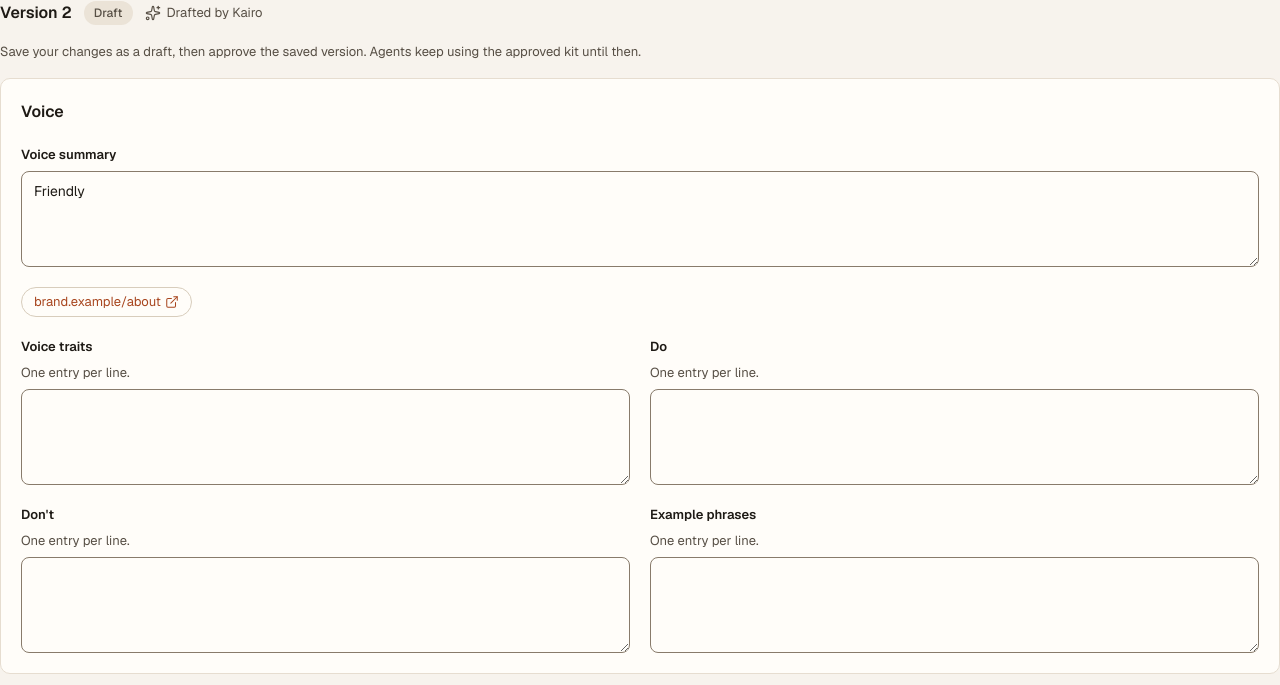
Test: saves edits without losing source evidence, file references or colours
The image size is (1280, 685).
Replace the text in the text box labelled "Voice summary" with "Practical and friendly": x=640, y=219 [21,171,1259,267]
(page scrolled)
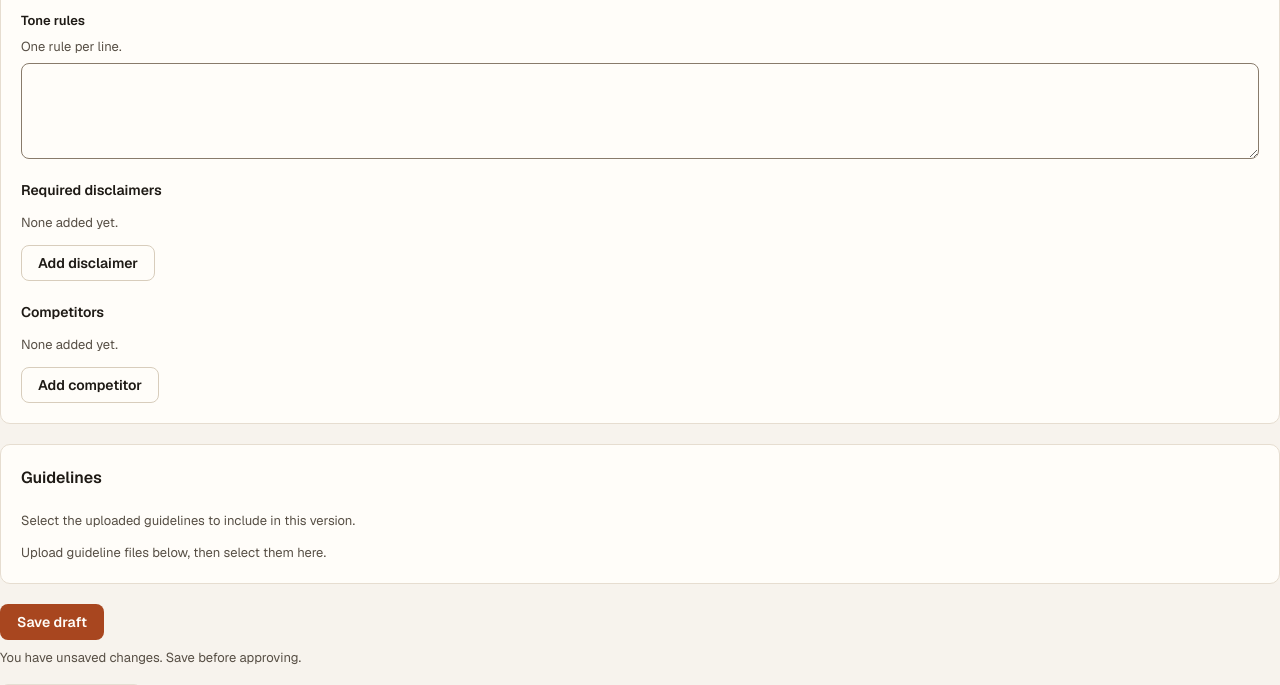
Click the button "Save draft": x=52, y=622 [0,604,104,640]
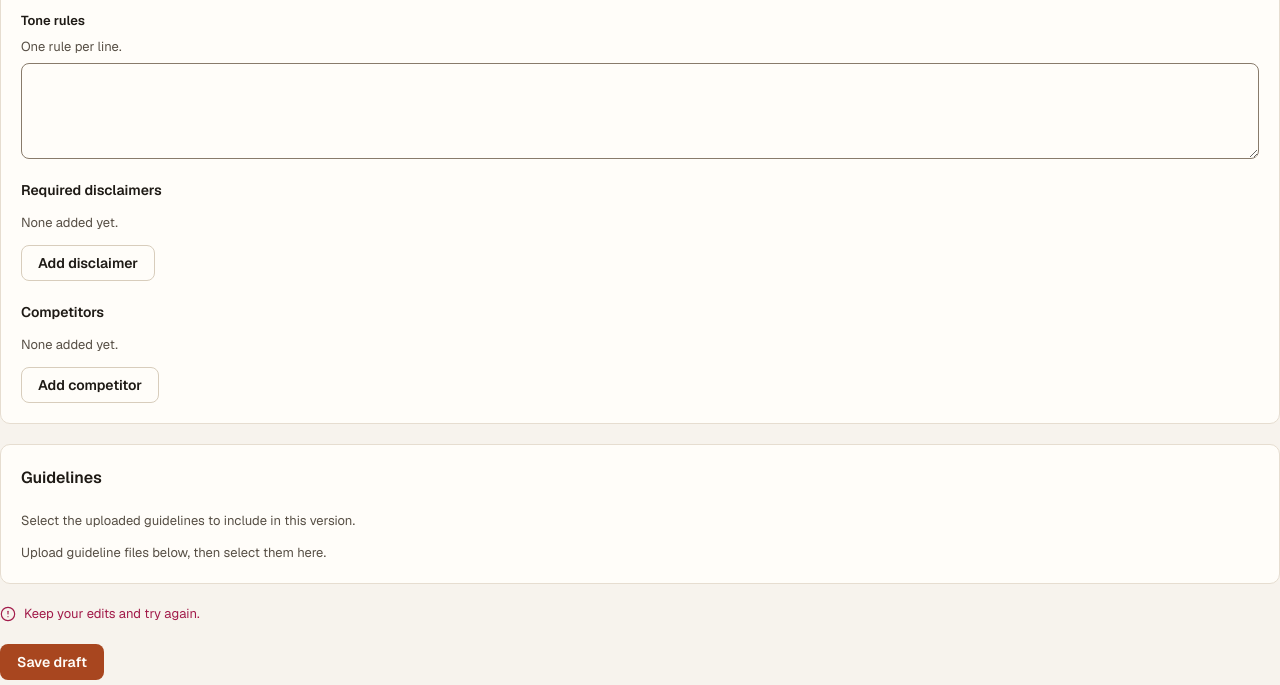
Now the message shows "Keep your edits", box [24,605,200,622]
